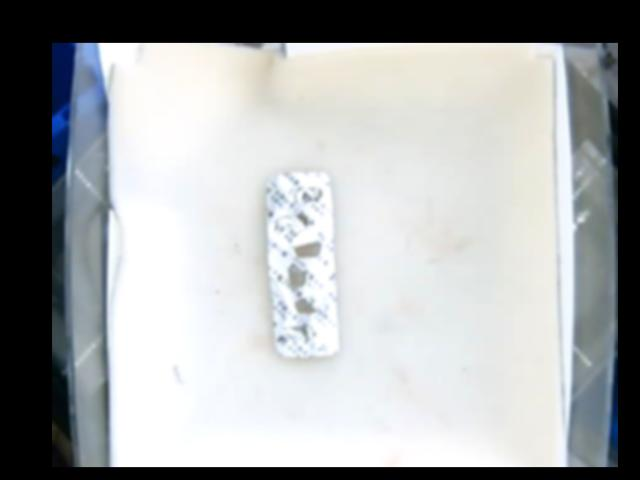Medicine: (271, 169, 335, 358)
